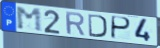2: (43, 9, 62, 36)
4: (133, 18, 154, 44)
D: (87, 13, 108, 39)
M: (15, 6, 44, 33)
P: (110, 15, 133, 41)
R: (64, 11, 87, 37)
